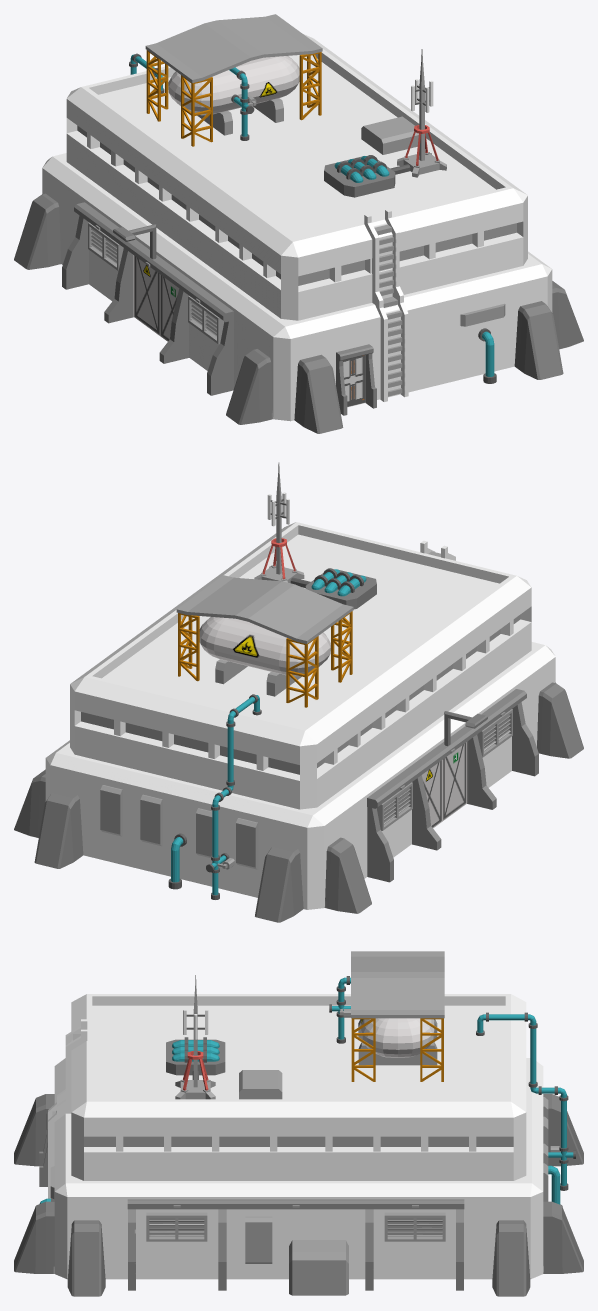
Rendered from service_building.fbx.
3 views of the same model, one above another, from view 1: azimuth 30°, elevation 25°; view 2: azimuth 150°, elevation 25°; view 3: azimuth 270°, elevation 25° (orthographic).
Parts seen in each view (by area): view 1: Mesh1; view 2: Mesh1; view 3: Mesh1.
Boxes of the visible parts, box(x1,y1,x2,y2) form: Mesh1: box(14, 14, 583, 433); Mesh1: box(14, 462, 583, 922); Mesh1: box(14, 951, 583, 1296).
Bounding box in the file's own units: 99.77 × 73.79 × 139.
2 materials, 1 textured.
